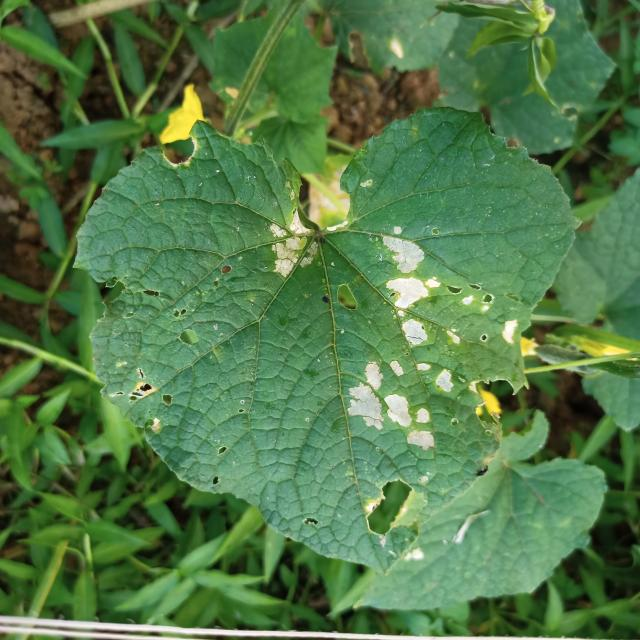disease_cucumber: (344, 223, 464, 473), (253, 202, 320, 285)
